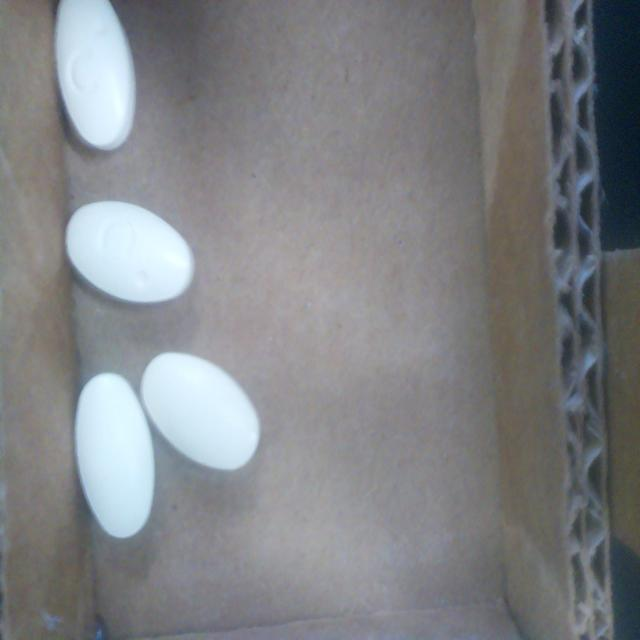pill: (141, 352, 260, 470), (65, 200, 195, 304), (75, 373, 155, 538), (55, 0, 136, 150)
